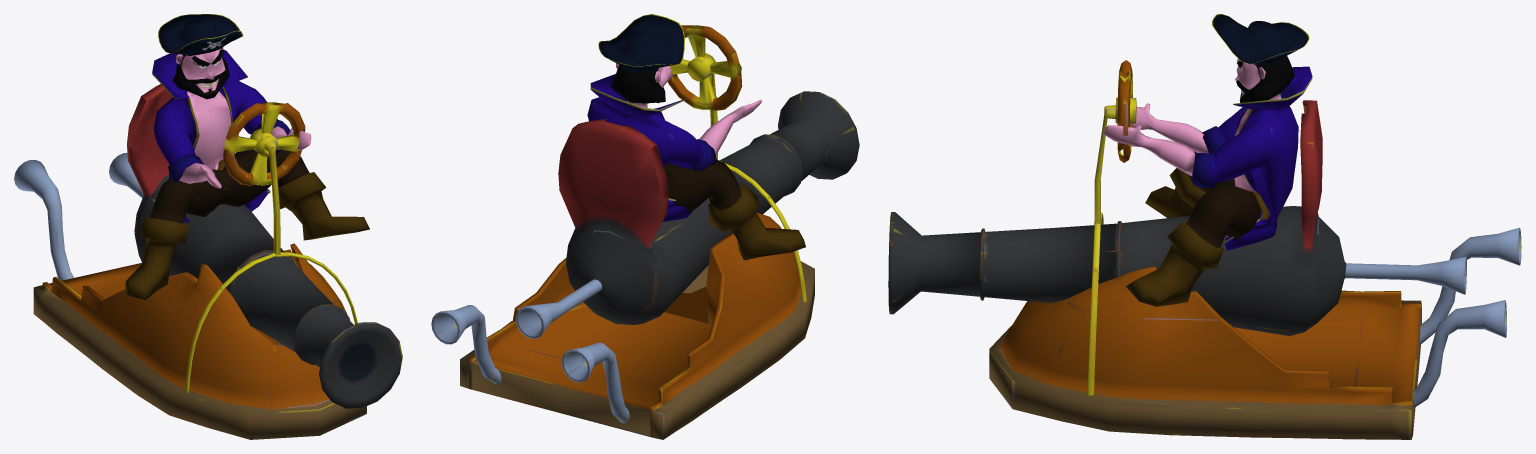
File: pirataGiroDer_000166.obj
3 renders of one model, left to right at view 1: azimuth 30°, elevation 25°; view 2: azimuth 150°, elevation 25°; view 3: azimuth 270°, elevation 25°, orthographic. The views are drawn at different scales.
Visible parts, largest first — view 1: carro_pirata, Pirata_PirataH_Pirata_PirataH.001; view 2: carro_pirata, Pirata_PirataH_Pirata_PirataH.001; view 3: carro_pirata, Pirata_PirataH_Pirata_PirataH.001.
Part boxes in pixels (x1,y1,x2,y2): carro_pirata: (14, 84, 402, 439); Pirata_PirataH_Pirata_PirataH.001: (125, 14, 369, 300); carro_pirata: (431, 25, 859, 439); Pirata_PirataH_Pirata_PirataH.001: (587, 14, 805, 260); carro_pirata: (888, 60, 1521, 439); Pirata_PirataH_Pirata_PirataH.001: (1103, 14, 1312, 306).
Size of the model in its own units: 5.64 by 7.55 by 12.1.
2 materials, 2 textured.
